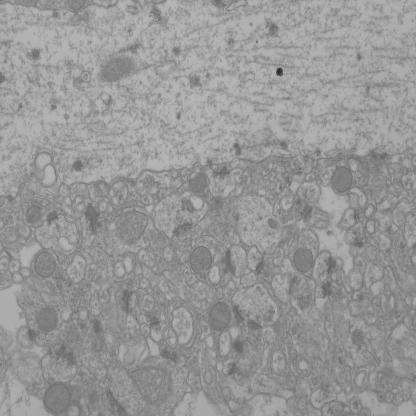mitochondria: (131, 364, 174, 405), (114, 210, 149, 248), (96, 54, 139, 82), (43, 381, 71, 415), (208, 301, 232, 332), (190, 245, 213, 275), (331, 165, 354, 194), (37, 306, 59, 333), (35, 251, 56, 279), (294, 247, 314, 275), (189, 172, 208, 195), (26, 204, 42, 225)
